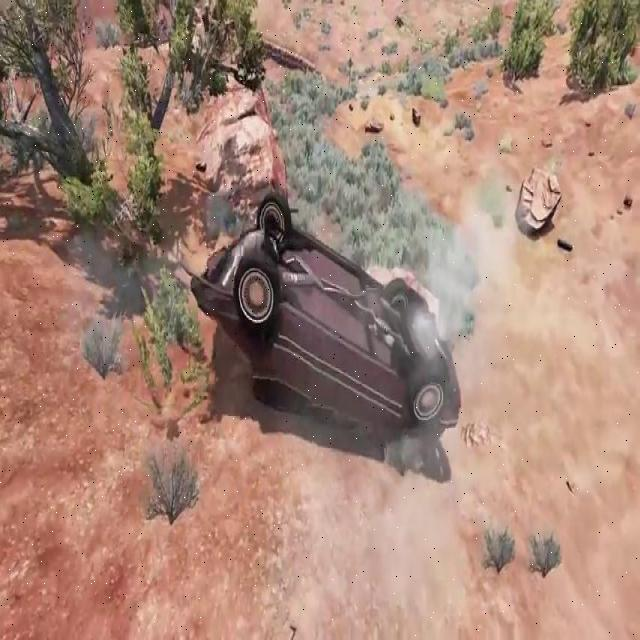severe: (185, 187, 463, 456)
